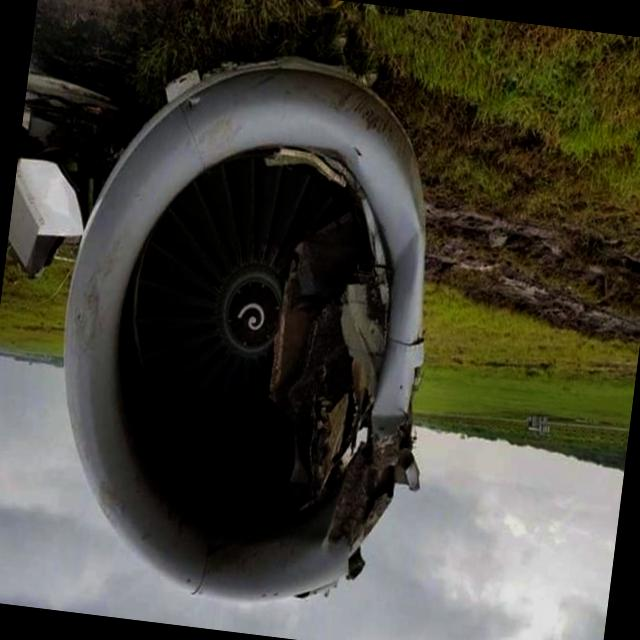dent: (386, 157, 440, 330), (364, 388, 410, 439)
